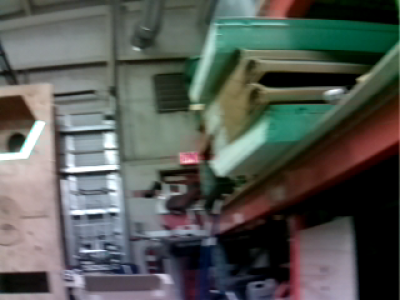target: (1, 120, 44, 159)
